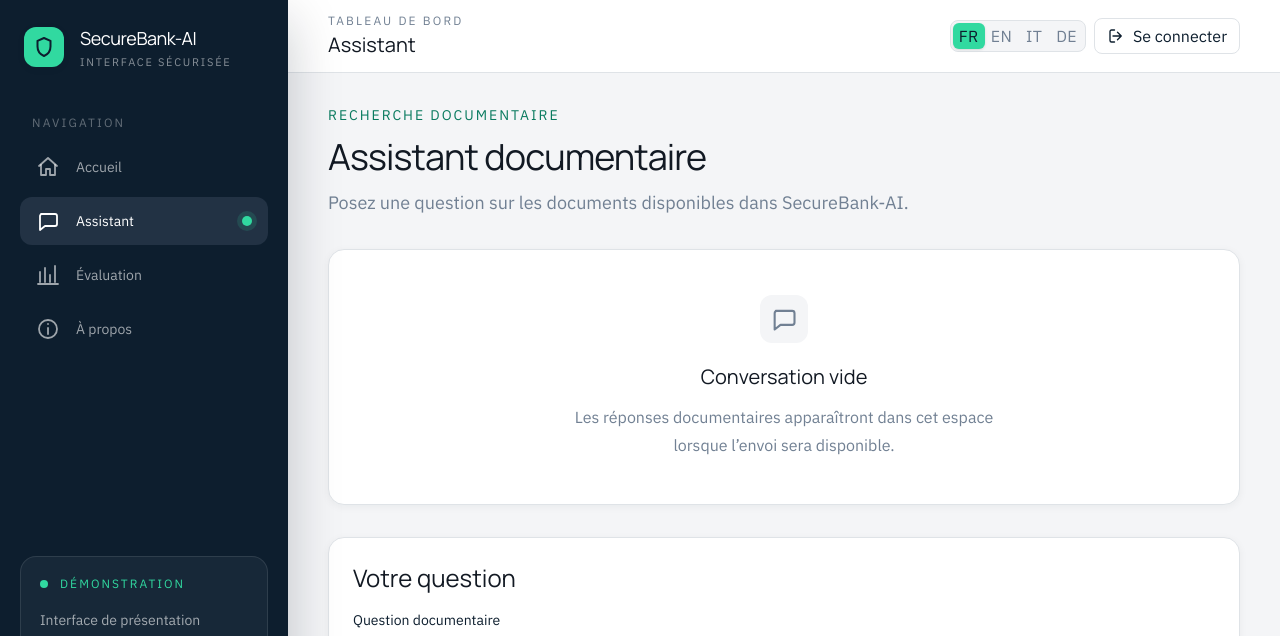
on-demand authentication › keeps evaluation visible after an administrator login
Click the button "Se connecter": (1167, 36) [1094,18,1240,54]
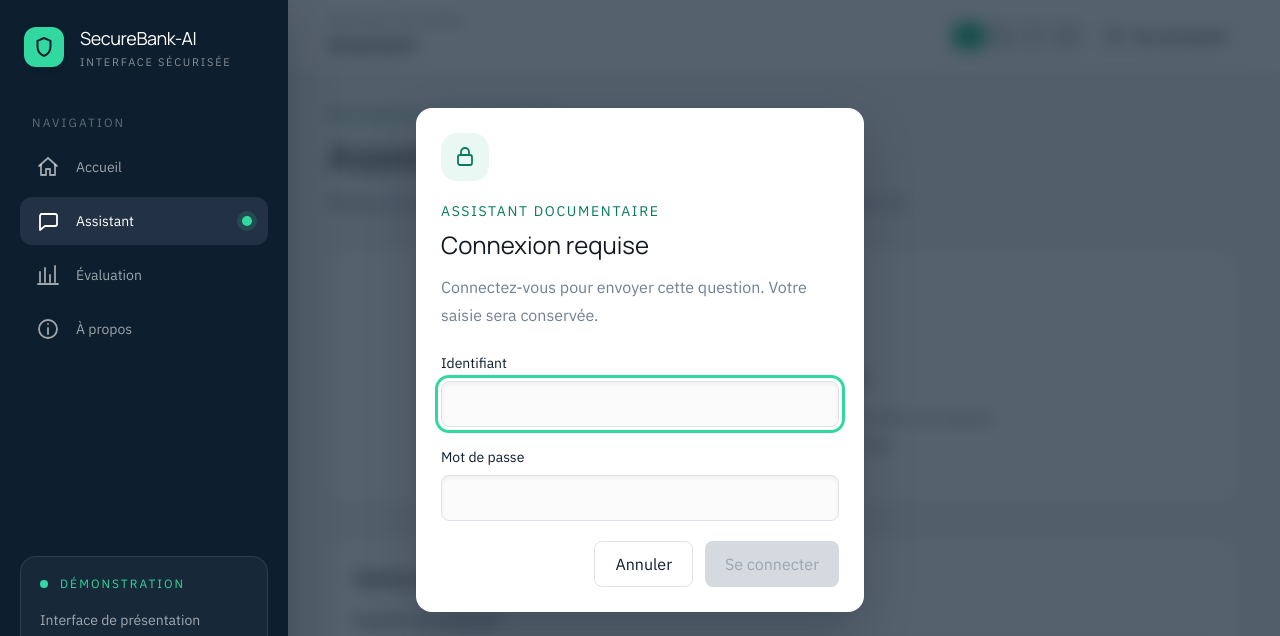
In the field labelled "Identifiant": (640, 404) [441,381,839,427], type "demo.user"
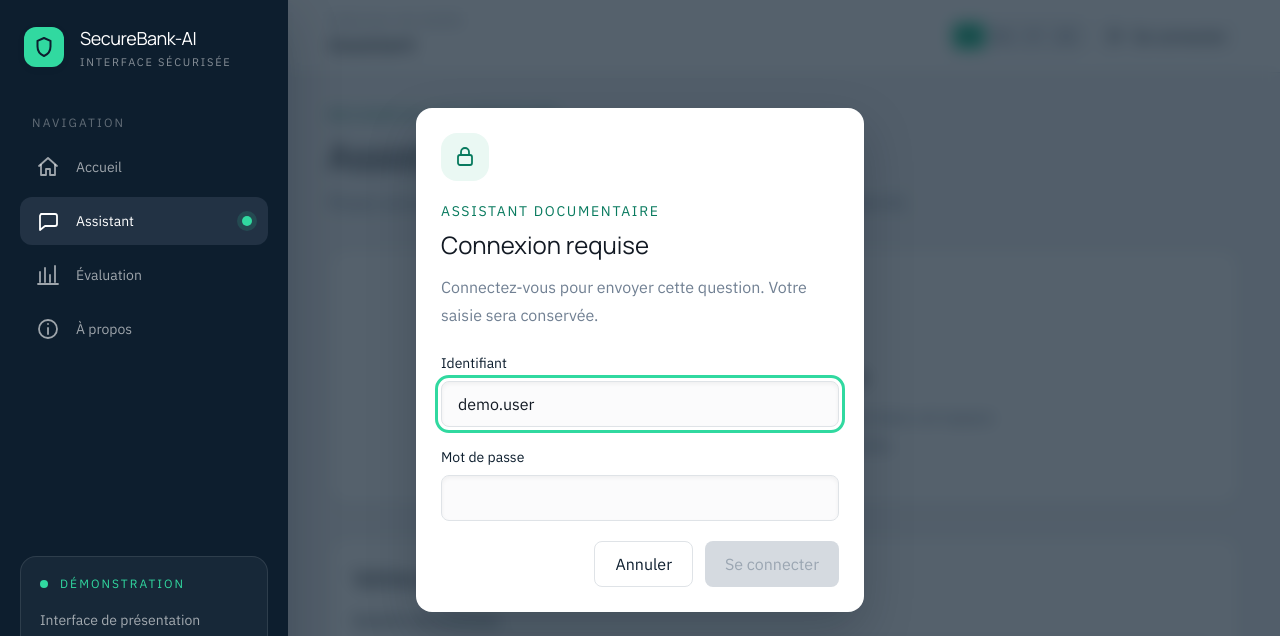
In the password field labelled "Mot de passe": (640, 498) [441,475,839,521], type "synthetic-password"
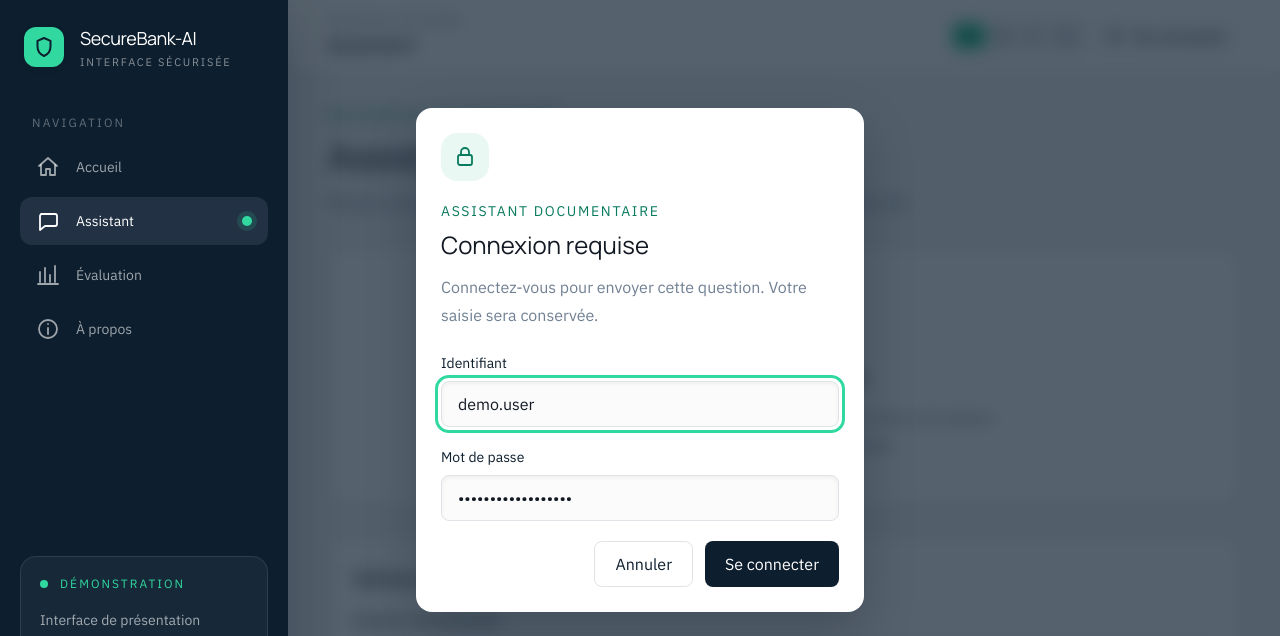
Click the button "Se connecter": (772, 564) [705,541,839,587]
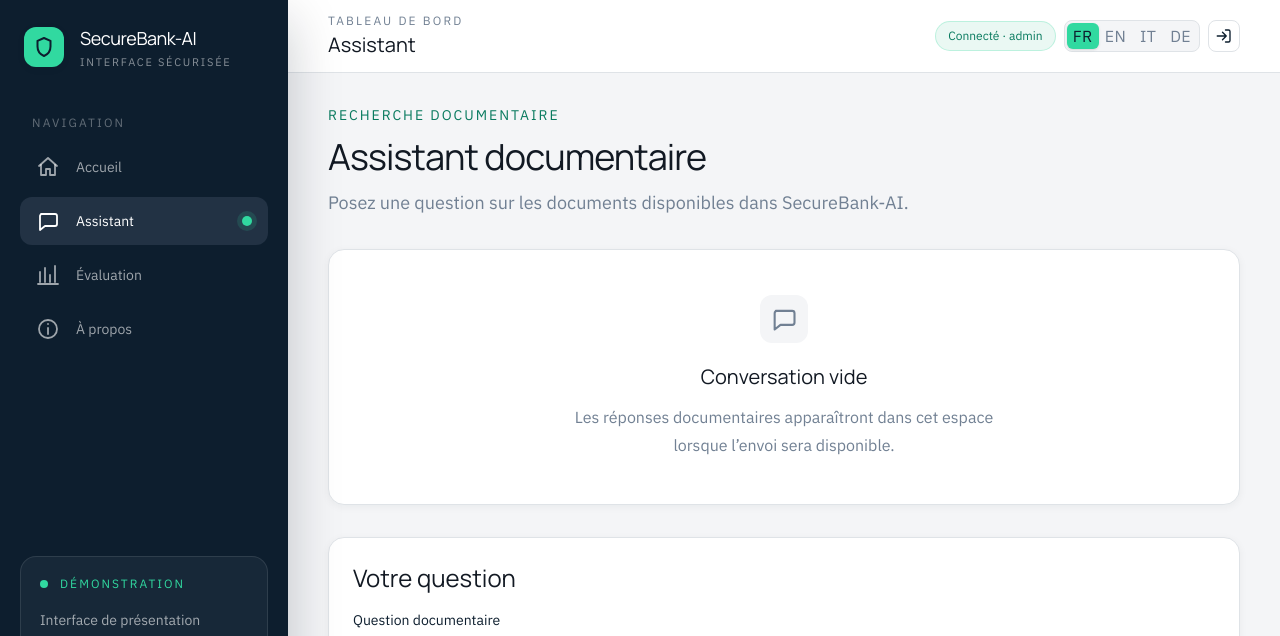
Expected: the link "Évaluation" is shown, [36,262,142,286]
Expected: the text "Connecté · admin" is shown, [935,21,1056,51]
